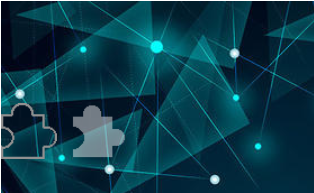target: (68, 103, 129, 163)
